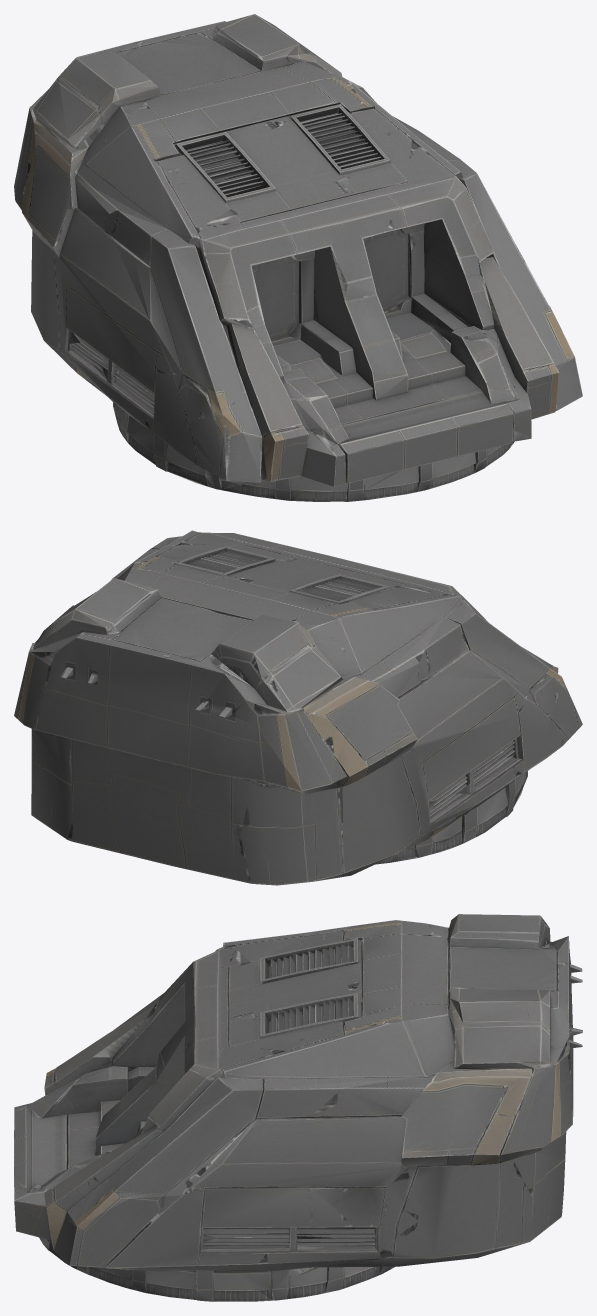
Rendered from shared_defence_battery__turret_head_lod1.glb.
The picture shows the model from 3 angles, top to bottom: view 1: azimuth 30°, elevation 25°; view 2: azimuth 150°, elevation 25°; view 3: azimuth 270°, elevation 25°; orthographic projection. The views are drawn at different scales.
Visible parts, largest first — view 1: mesh_node; view 2: mesh_node; view 3: mesh_node.
Part boxes in pixels (box(x1,y1,x2,y2)): mesh_node: box(14, 14, 582, 501); mesh_node: box(14, 530, 582, 885); mesh_node: box(14, 914, 582, 1301).
Bounding box in the file's own units: 13.99 × 9.55 × 18.93.
1 material, 1 textured.
